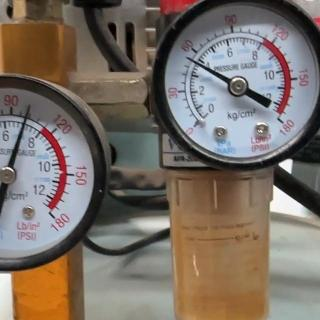gauge: (141, 1, 319, 174), (0, 67, 114, 273), (185, 105, 218, 139), (41, 204, 63, 228), (227, 75, 249, 96), (270, 109, 290, 131), (0, 166, 16, 185), (24, 102, 34, 114), (182, 54, 192, 62)
